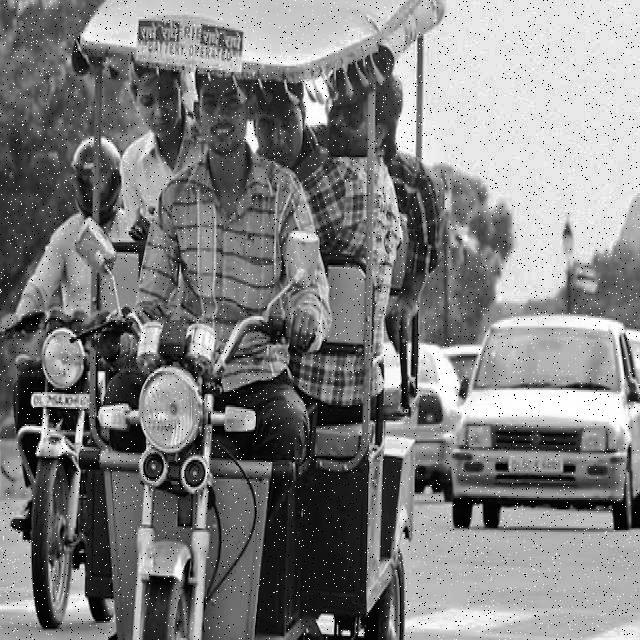Toto: (101, 0, 438, 640)
